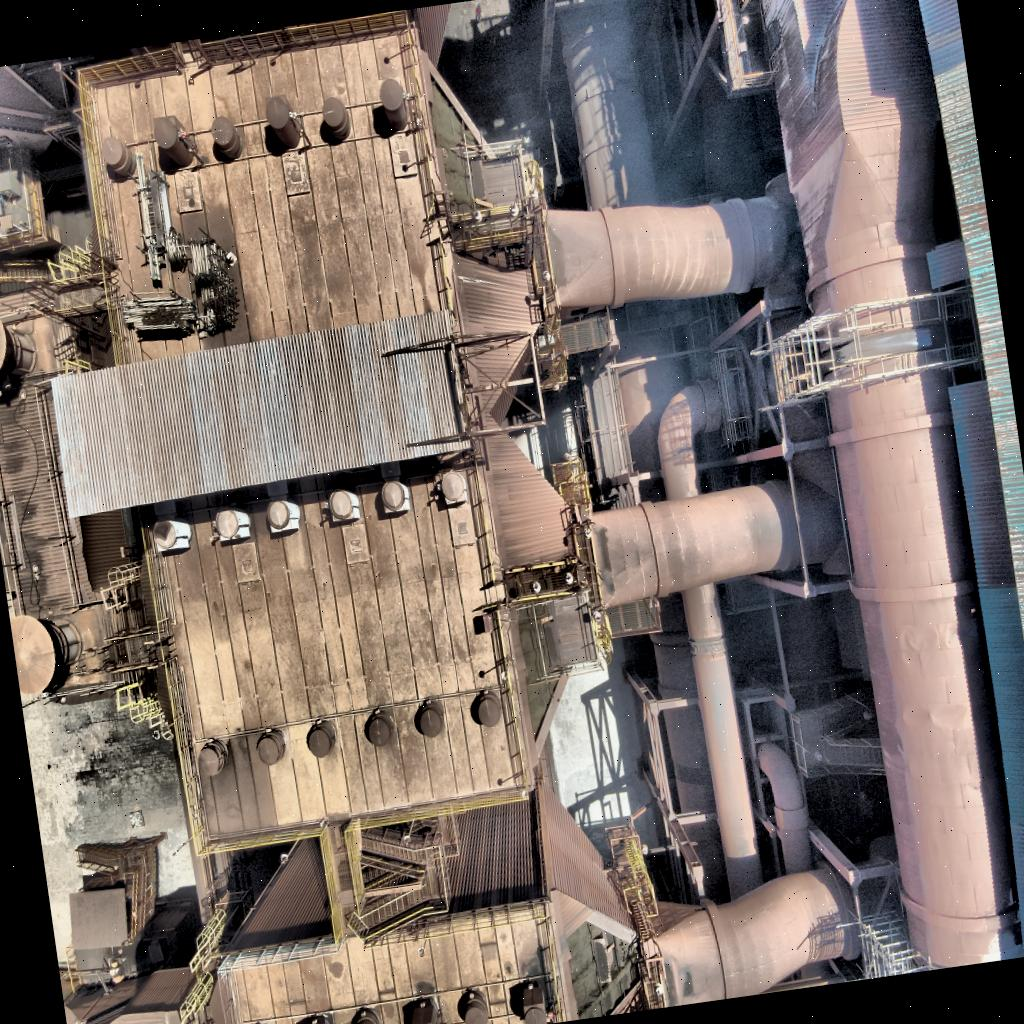Failures: (423, 58, 524, 278), (504, 582, 598, 740), (556, 898, 650, 1020)
